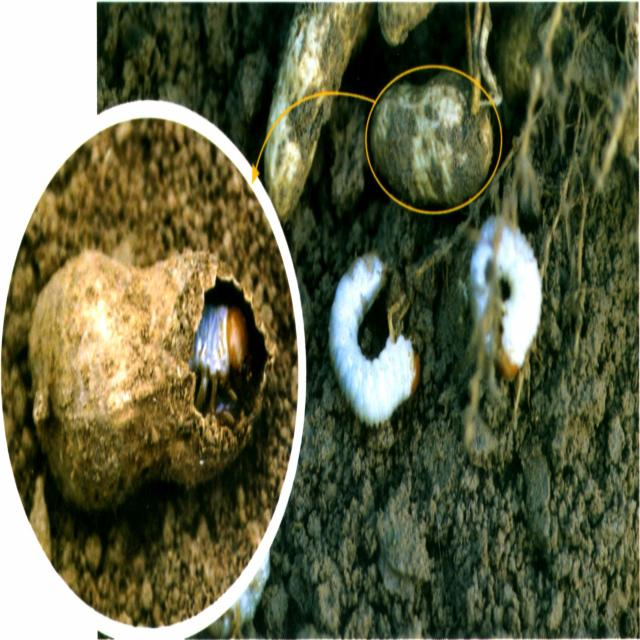Grub-Adult-: (320, 227, 418, 446), (474, 204, 537, 399)
